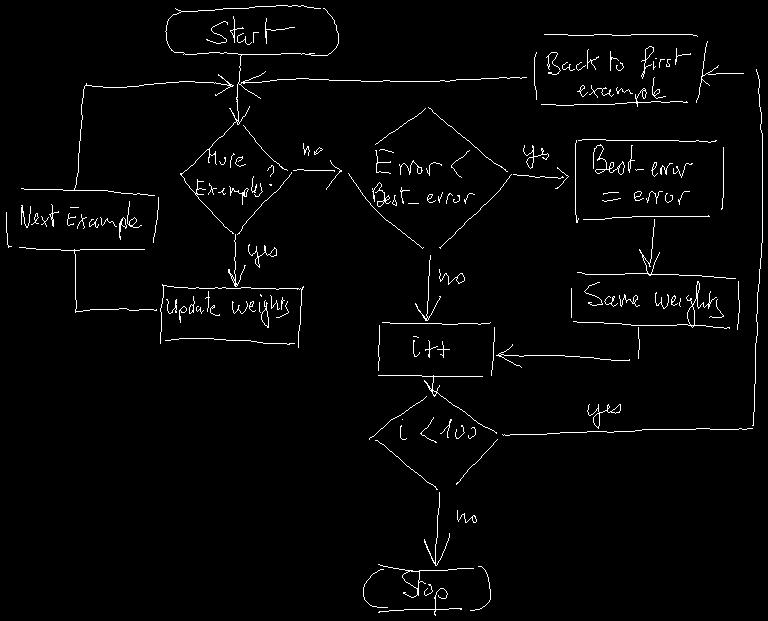arrow: (502, 65, 762, 435), (74, 74, 233, 189), (239, 71, 526, 98), (496, 327, 639, 367), (74, 249, 156, 312), (424, 492, 449, 565), (415, 255, 440, 320), (229, 54, 249, 124), (293, 160, 341, 189), (513, 167, 568, 188), (639, 219, 659, 275), (228, 234, 245, 286), (424, 375, 439, 396)
decision: (348, 107, 511, 248), (369, 390, 497, 489), (180, 122, 291, 234)
process: (575, 139, 723, 222), (534, 34, 707, 105), (571, 272, 739, 329), (6, 188, 158, 250), (160, 284, 303, 347), (378, 322, 494, 376)
terminator: (165, 5, 338, 55), (363, 564, 490, 612)
text: (546, 46, 690, 106), (584, 281, 723, 327), (593, 144, 692, 204), (372, 149, 474, 206), (21, 201, 141, 239), (166, 291, 288, 327), (196, 149, 273, 204), (206, 16, 294, 44), (402, 570, 447, 615), (400, 417, 475, 442), (587, 404, 620, 428), (413, 336, 449, 357), (248, 244, 276, 267), (523, 145, 548, 168), (439, 269, 464, 284), (303, 143, 322, 155), (457, 510, 476, 522)
